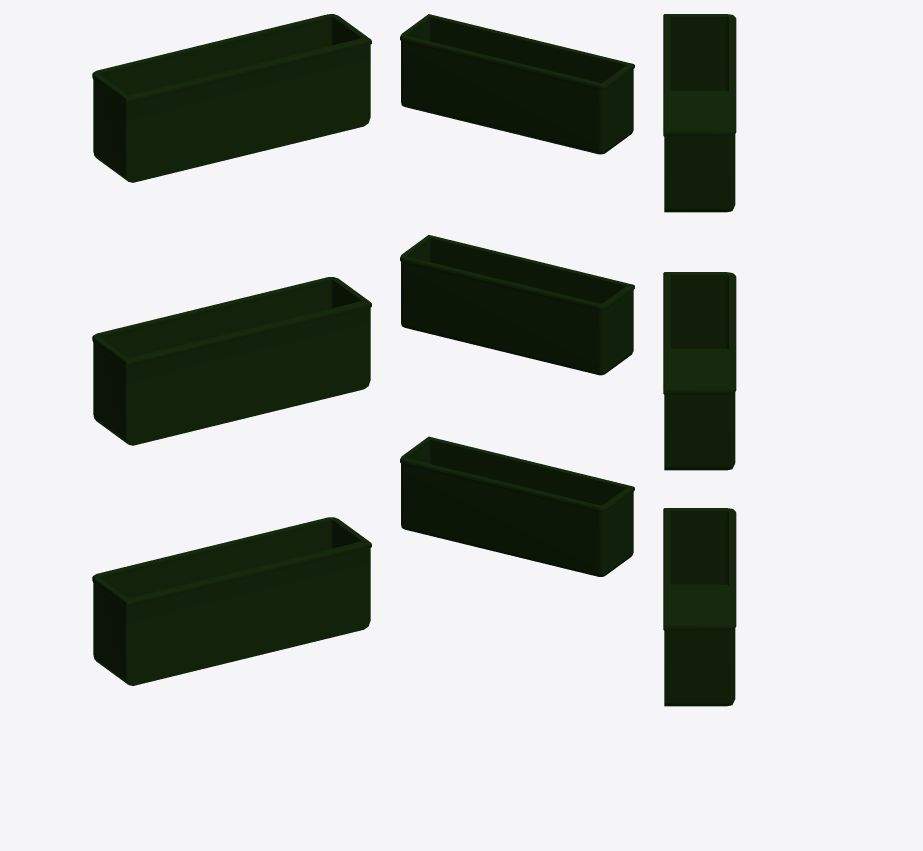
File: Fridge_14_Mesh_3_2.obj
3 views of the same model, side by side, from view 1: azimuth 30°, elevation 25°; view 2: azimuth 150°, elevation 25°; view 3: azimuth 270°, elevation 25° (orthographic). The views are drawn at different scales.
Bounding box in the file's own units: 0.5309 × 1.72 × 0.4673.
